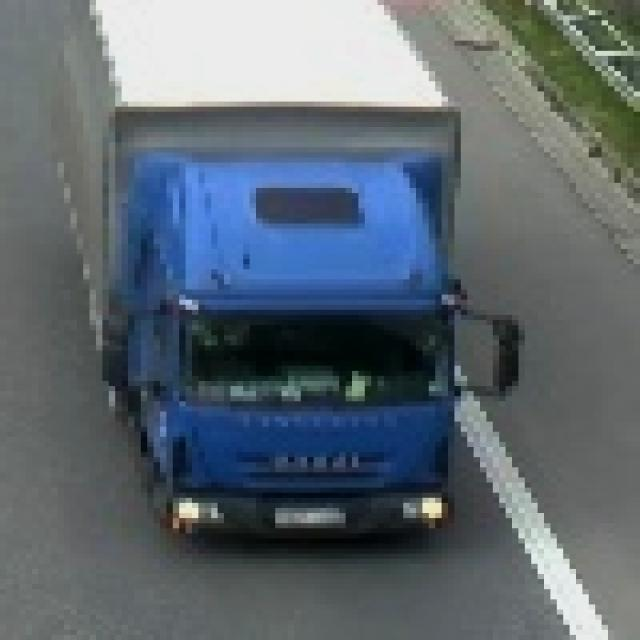truck: (53, 1, 520, 570)
